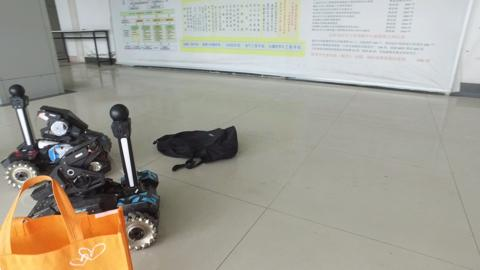chariot: (4, 86, 107, 182)
